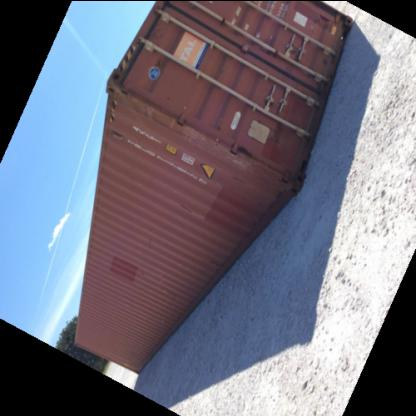Damage: (116, 83, 196, 149), (202, 136, 284, 188)
